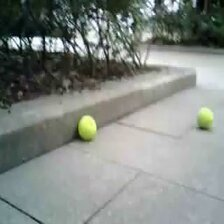tennis: (77, 115, 97, 139), (196, 108, 214, 127)
